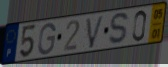0: (132, 9, 147, 43)
2: (63, 19, 81, 52)
5: (19, 22, 38, 60)
G: (37, 22, 57, 56)
S: (107, 12, 131, 47)
V: (85, 14, 106, 50)
